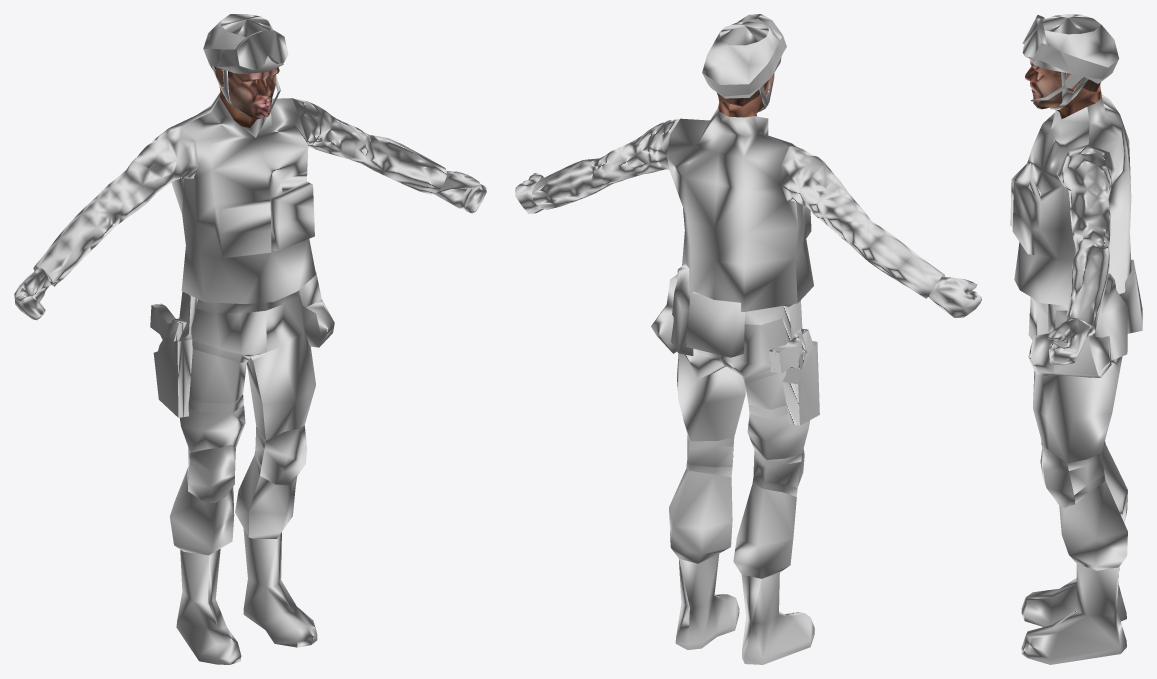
File: deltaMD.glb
The picture shows the model from 3 angles, left to right: view 1: azimuth 30°, elevation 25°; view 2: azimuth 150°, elevation 25°; view 3: azimuth 270°, elevation 25°; orthographic projection.
Visible parts, largest first — view 1: _deltaMD; view 2: _deltaMD; view 3: _deltaMD.
Boxes of the visible parts, x1=… form: _deltaMD: x1=14, y1=14, x2=486, y2=664; _deltaMD: x1=515, y1=14, x2=981, y2=664; _deltaMD: x1=1010, y1=14, x2=1142, y2=664.
Size of the model in its own units: 1.59 by 2.03 by 0.3921.
2 materials, 1 textured.
